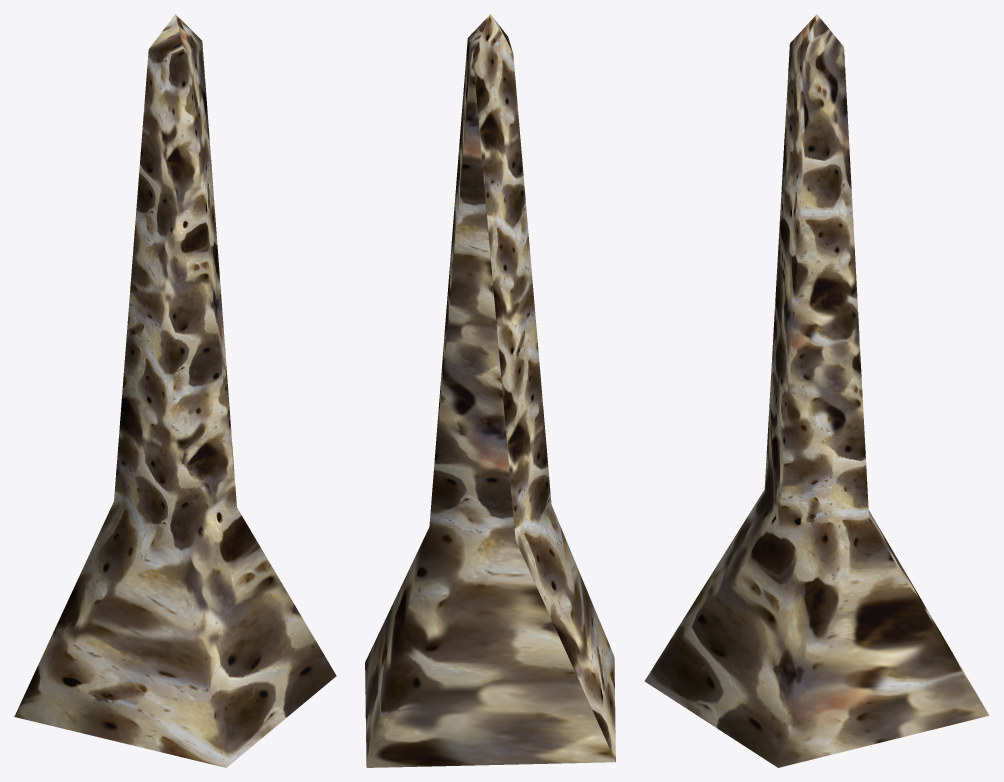
File: CoralStone-03_LOD2.fbx
The picture shows the model from 3 angles, left to right: view 1: azimuth 30°, elevation 25°; view 2: azimuth 150°, elevation 25°; view 3: azimuth 270°, elevation 25°; orthographic projection. The views are drawn at different scales.
Visible parts, largest first — view 1: CoralStone-03_low; view 2: CoralStone-03_low; view 3: CoralStone-03_low.
Boxes of the visible parts, x1=… form: CoralStone-03_low: x1=14, y1=14, x2=336, y2=767; CoralStone-03_low: x1=365, y1=14, x2=615, y2=767; CoralStone-03_low: x1=644, y1=14, x2=989, y2=767.
Size of the model in its own units: 0.1621 by 0.3725 by 0.1702.
